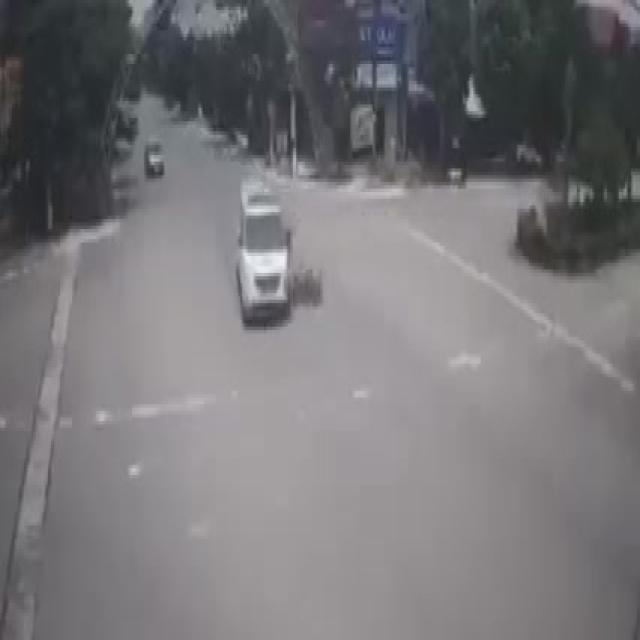multiple_accident: (235, 173, 324, 340)
